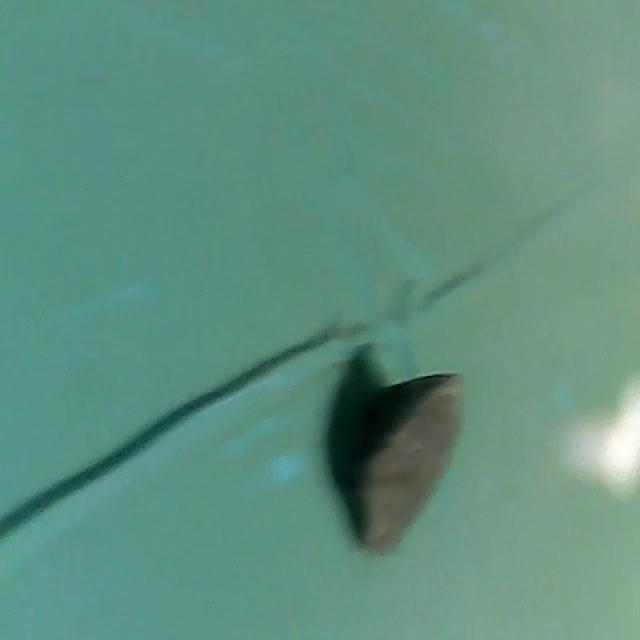rock: (333, 362, 473, 562)
